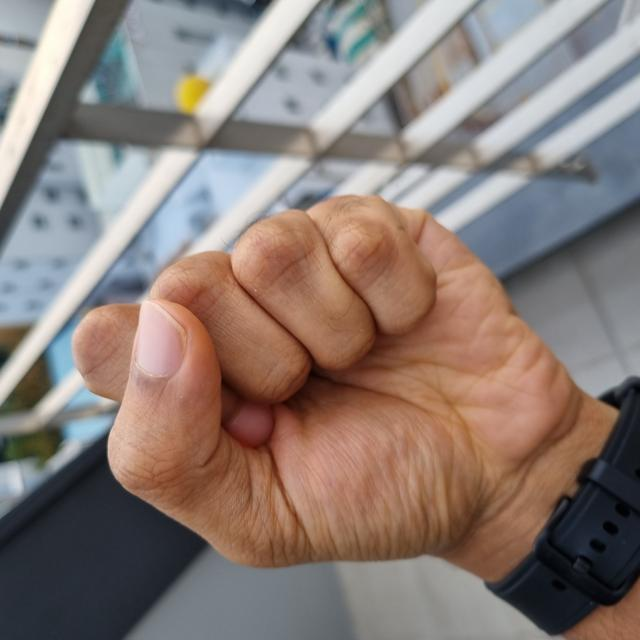Rock: (68, 91, 447, 581)
